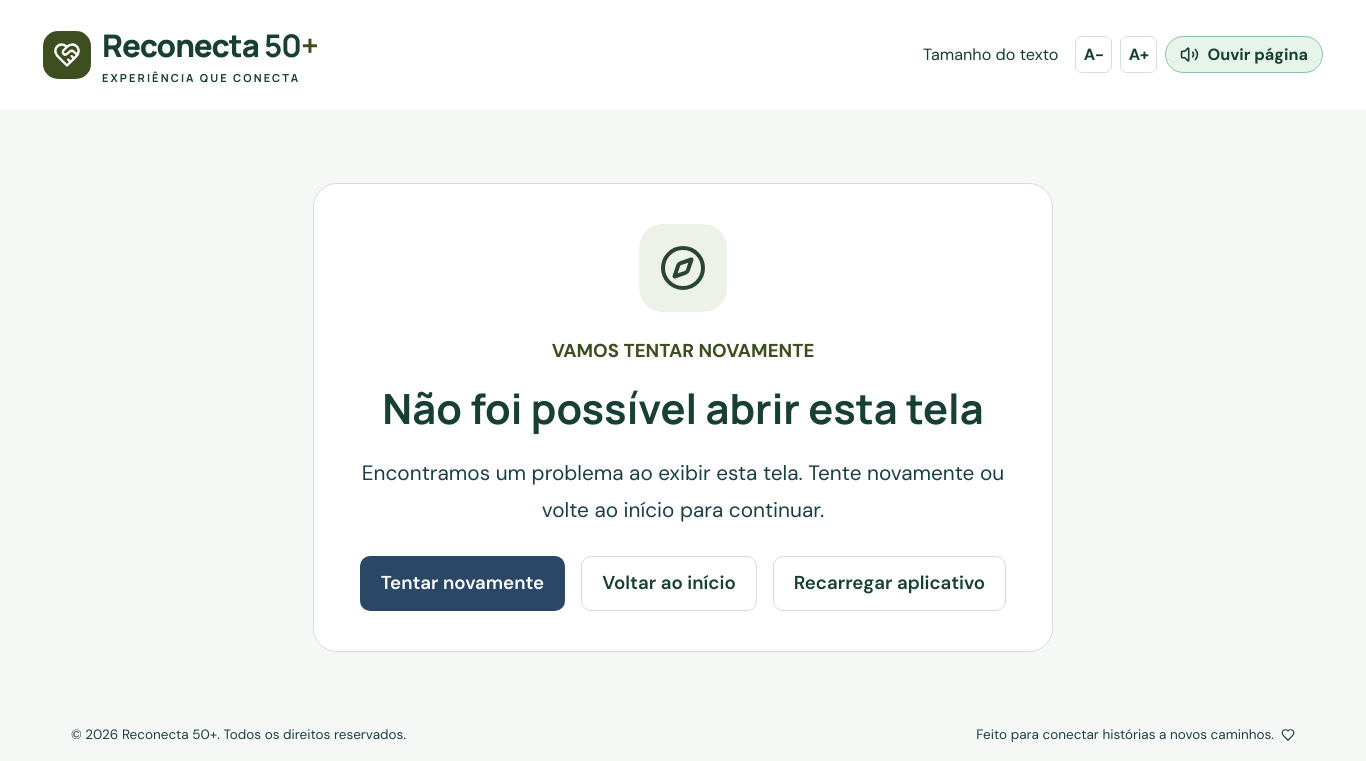
substitui falhas de renderização por recuperação e permite tentar novamente
Expected: the heading "Não foi possível abrir esta tela" is shown, top-left (354, 379), bottom-right (1012, 438)
Step 1. Click the button "Tentar novamente" → (462,584), box top-left (360, 556), bottom-right (565, 611)
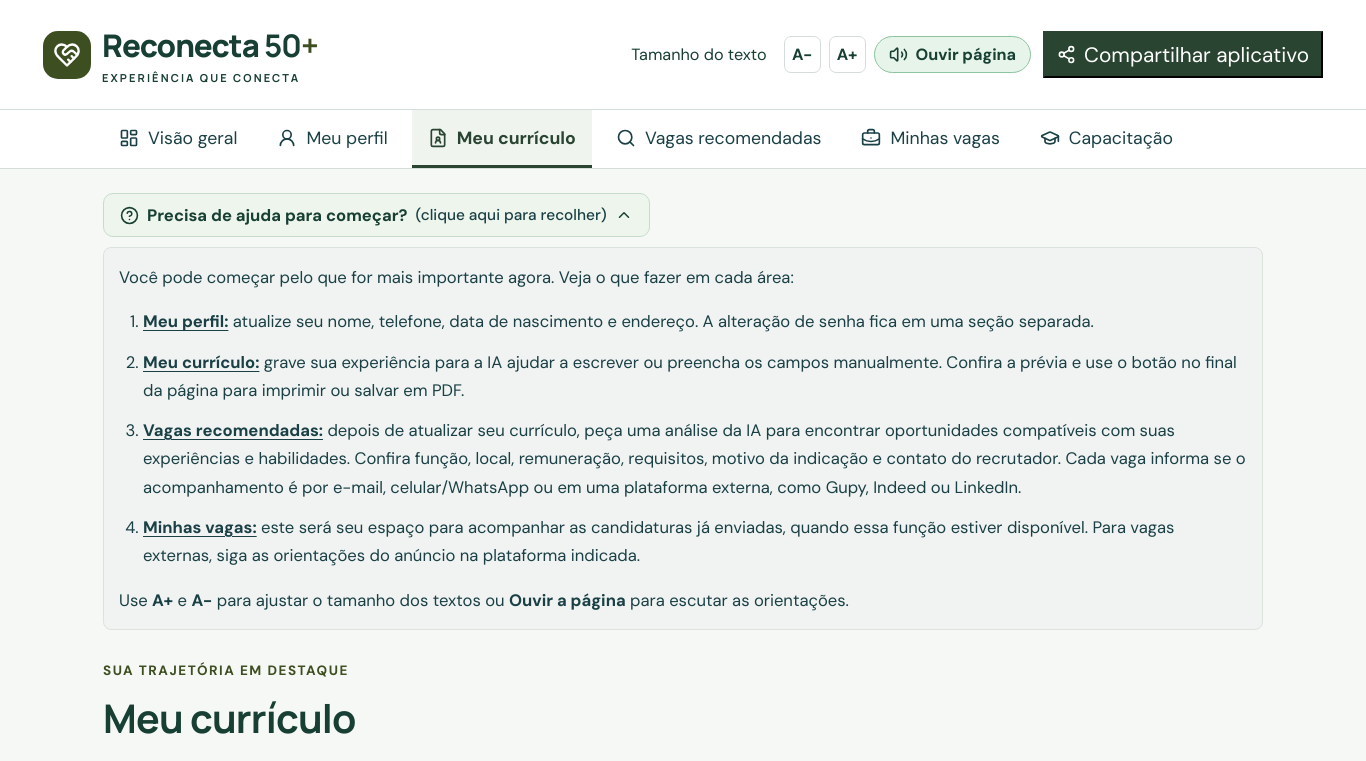
Expected: the heading "Meu currículo" is shown, top-left (103, 691), bottom-right (356, 745)
